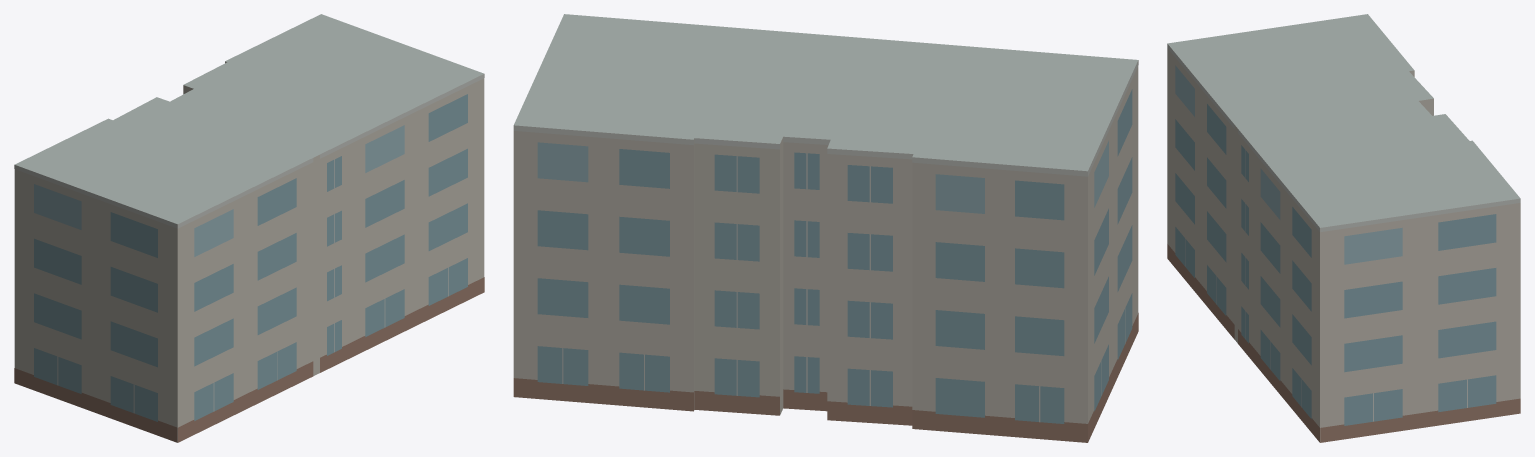
File: survey-upis-32858136.glb
The picture shows the model from 3 angles, left to right: view 1: azimuth 30°, elevation 25°; view 2: azimuth 150°, elevation 25°; view 3: azimuth 270°, elevation 25°; orthographic projection. The views are drawn at different scales.
Parts seen in each view (by area): view 1: survey-upis-32858136.tmp; view 2: survey-upis-32858136.tmp; view 3: survey-upis-32858136.tmp.
Boxes of the visible parts, left/top/right/bottom form: survey-upis-32858136.tmp: left=14, top=14, right=484, bottom=442; survey-upis-32858136.tmp: left=513, top=14, right=1138, bottom=442; survey-upis-32858136.tmp: left=1167, top=14, right=1520, bottom=442.
Size of the model in its own units: 26.04 by 12.2 by 18.18.
